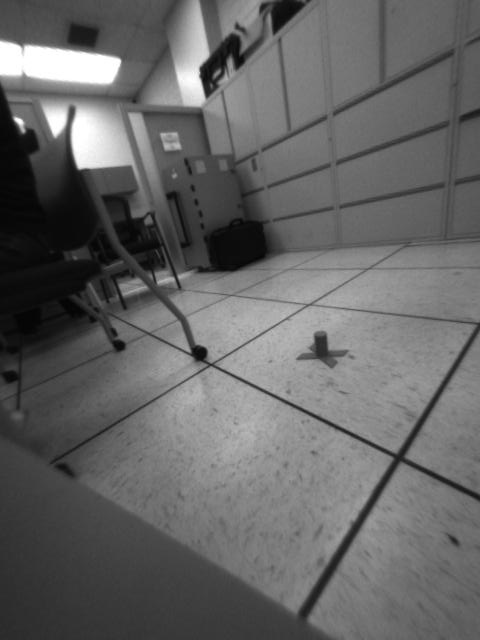X: (296, 329, 348, 369)
